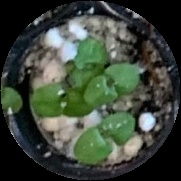Basil: (74, 112, 135, 165), (88, 62, 137, 108), (71, 40, 107, 92), (35, 87, 93, 116)
